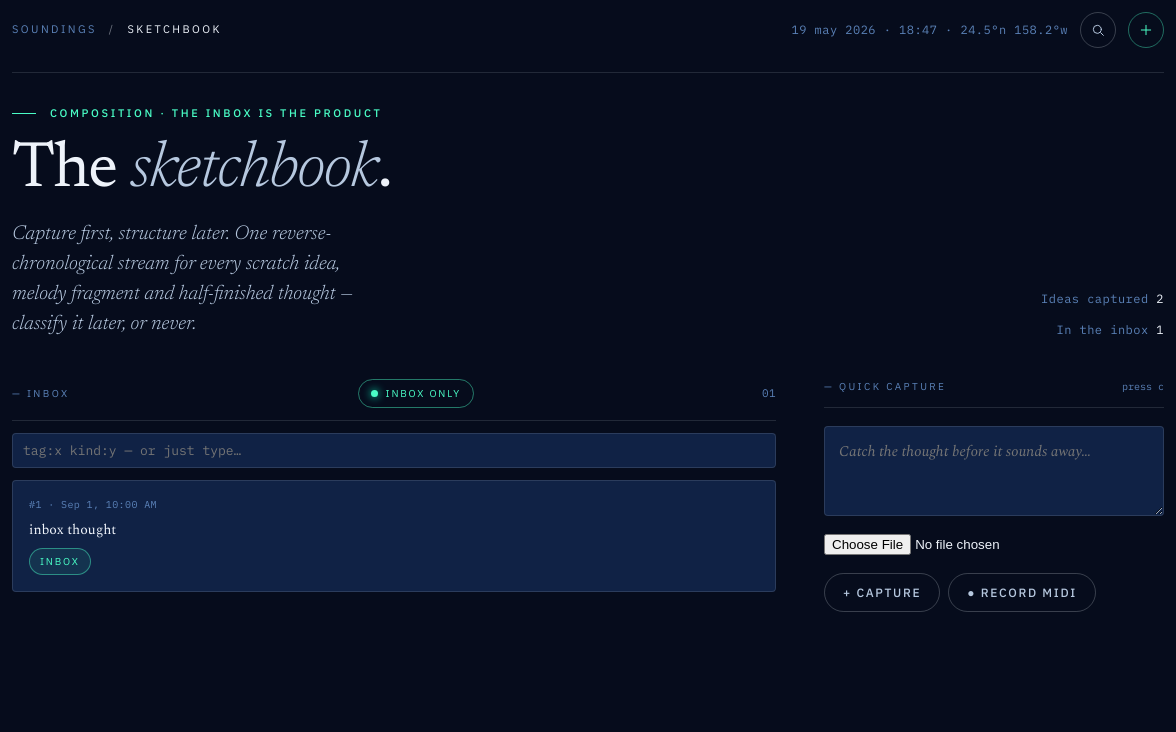
Test case: SketchbookLive with a backend (local build) › the inbox toggle hides non-inbox ideas until switched off
Expected: the text "inbox thought" is shown, [29,519,116,540]
Expected: the text "active thought" is not shown
Click the button "inbox only" at (416, 394), box [358,379,474,408]
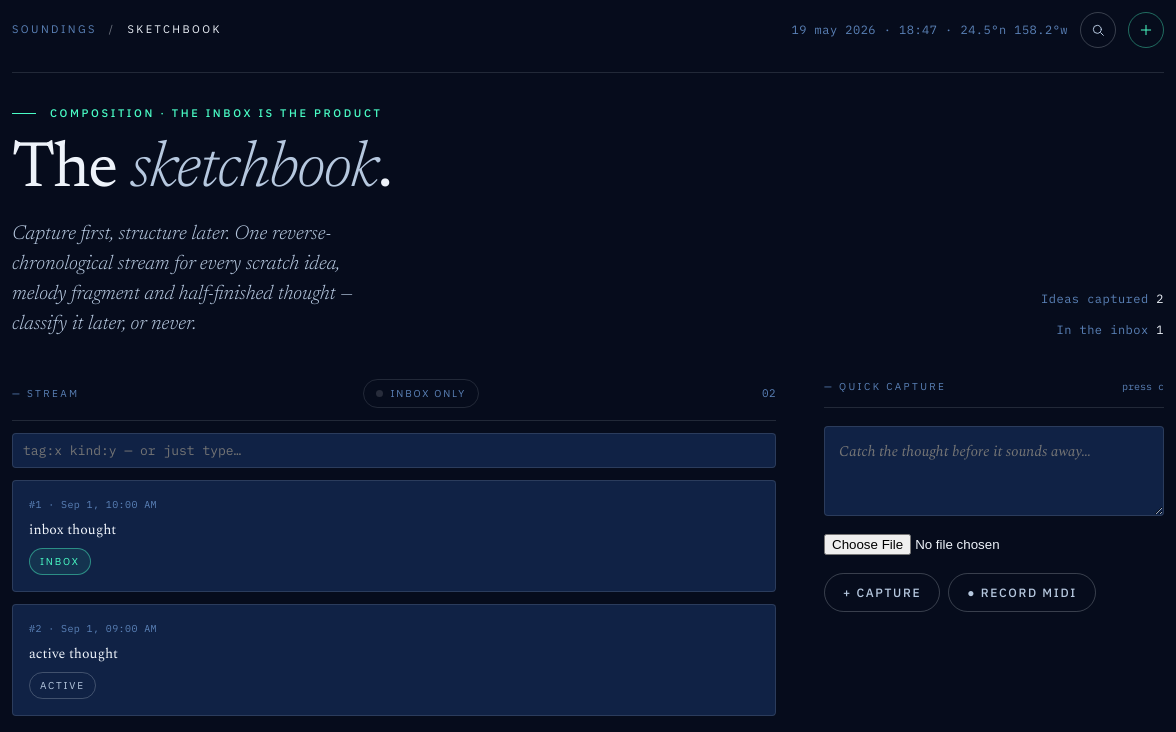
Now the text "active thought" is shown, box [29,643,118,664]
